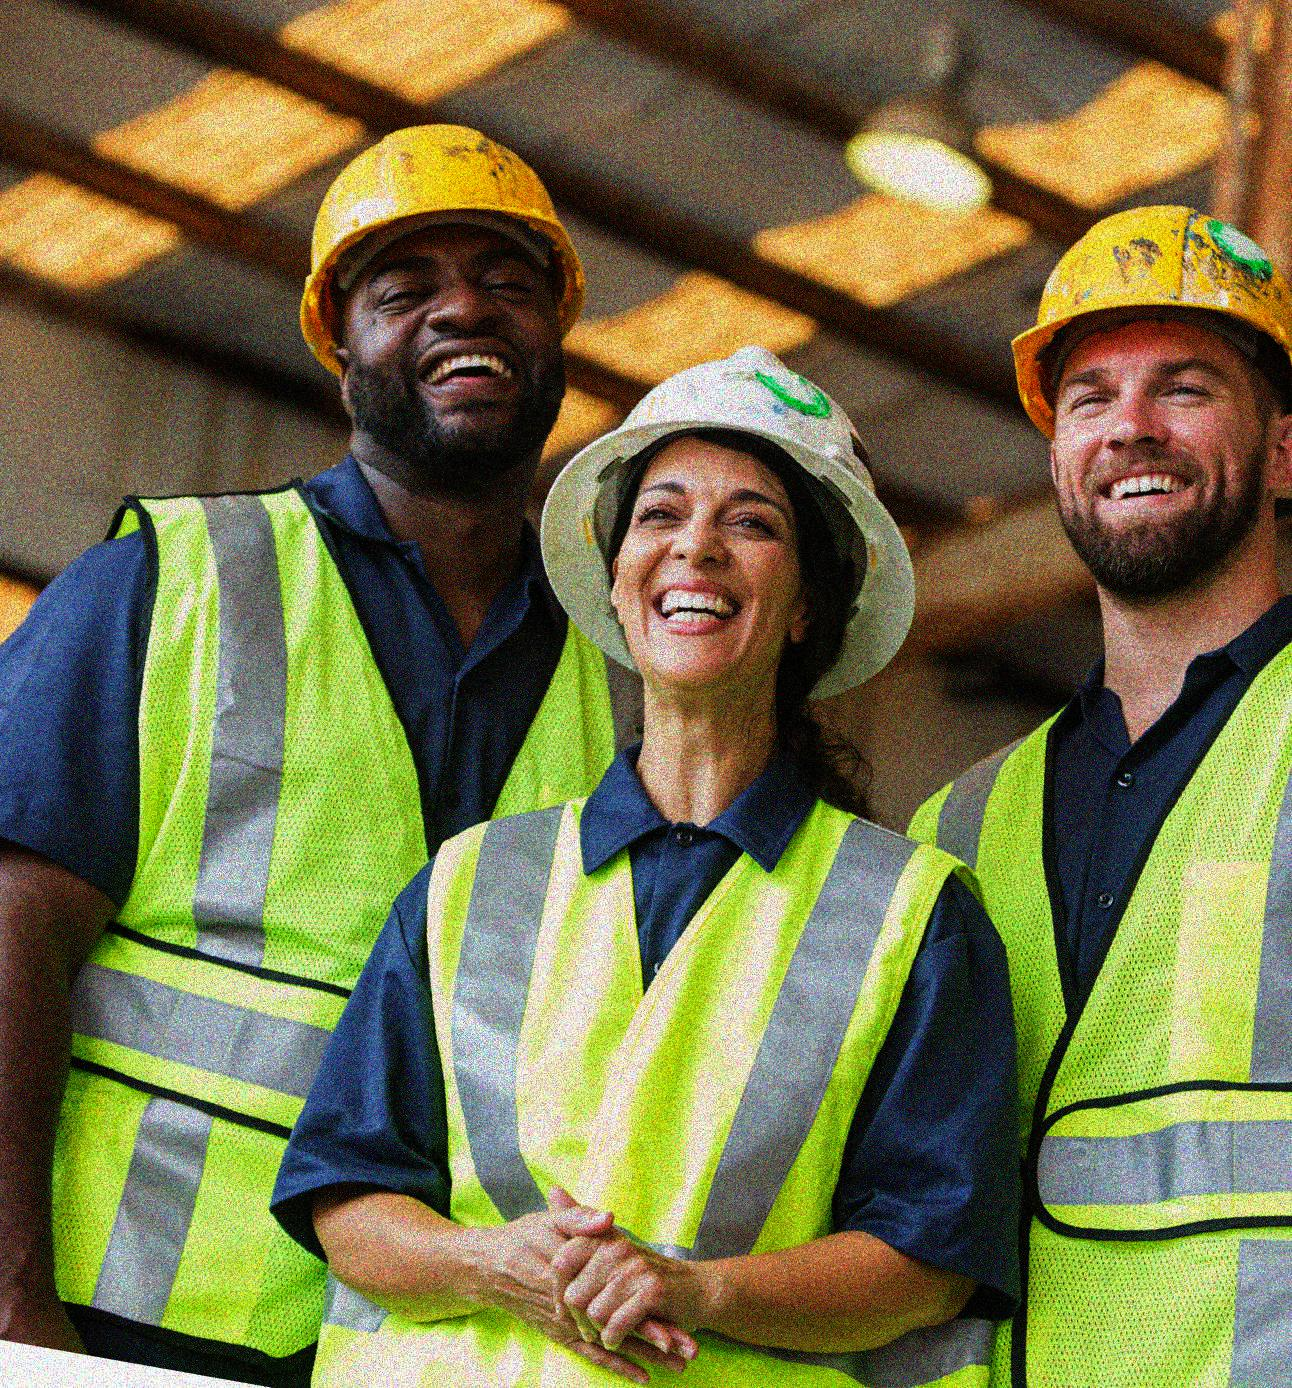helmet: (542, 361, 923, 704), (1003, 202, 1291, 597), (300, 118, 568, 468)
